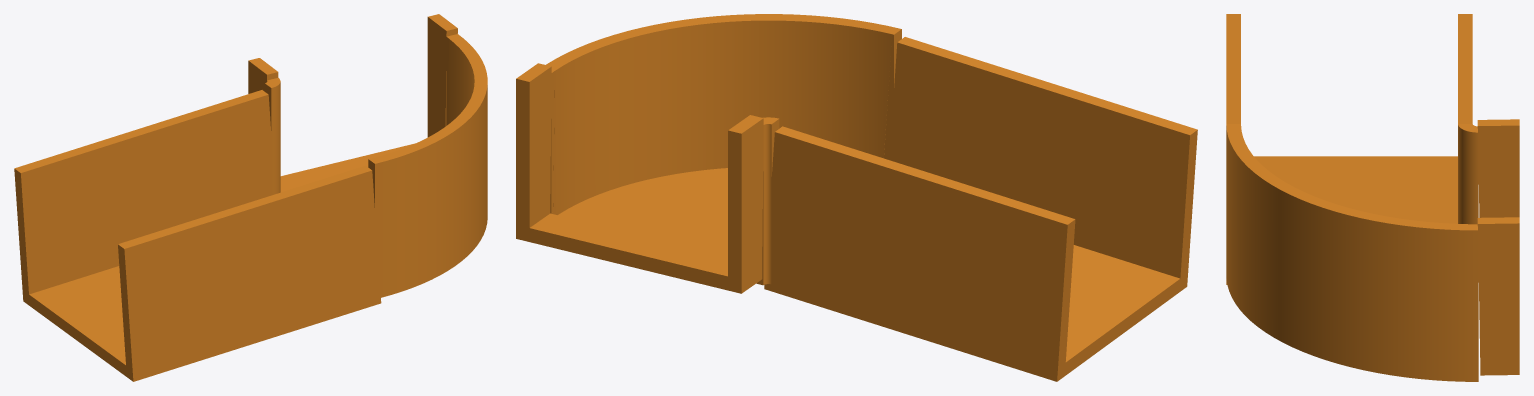
Rendered from elev_calha_entrega.glb.
The picture shows the model from 3 angles, left to right: view 1: azimuth 30°, elevation 25°; view 2: azimuth 150°, elevation 25°; view 3: azimuth 270°, elevation 25°; orthographic projection. The views are drawn at different scales.
Parts seen in each view (by area): view 1: elev_calha_entrega; view 2: elev_calha_entrega; view 3: elev_calha_entrega.
Part boxes in pixels (x1=…): elev_calha_entrega: x1=14, y1=14, x2=487, y2=381; elev_calha_entrega: x1=516, y1=14, x2=1197, y2=381; elev_calha_entrega: x1=1226, y1=14, x2=1519, y2=381.
Size of the model in its own units: 98.16 by 34.8 by 50.
